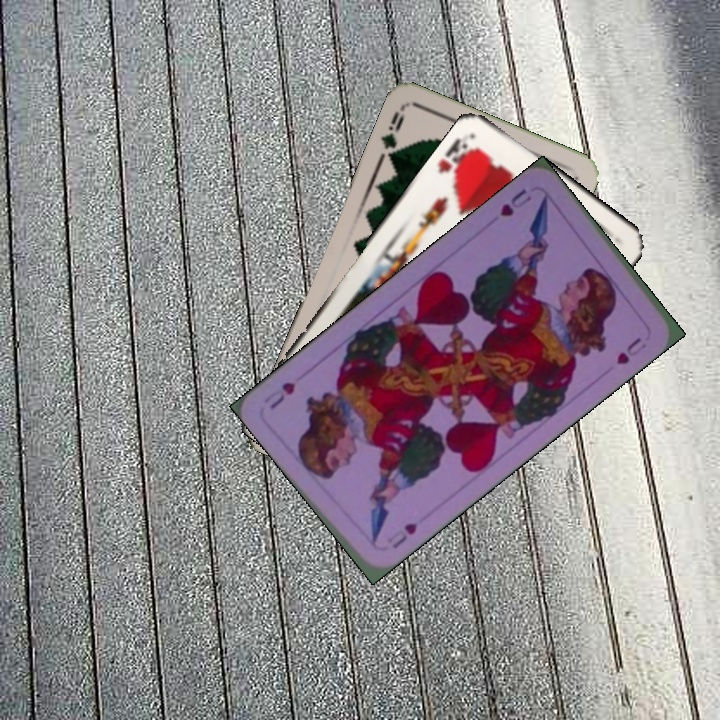G9: (376, 104, 408, 165)
HK: (433, 134, 479, 184)
HU: (496, 184, 534, 220), (387, 518, 421, 552)
